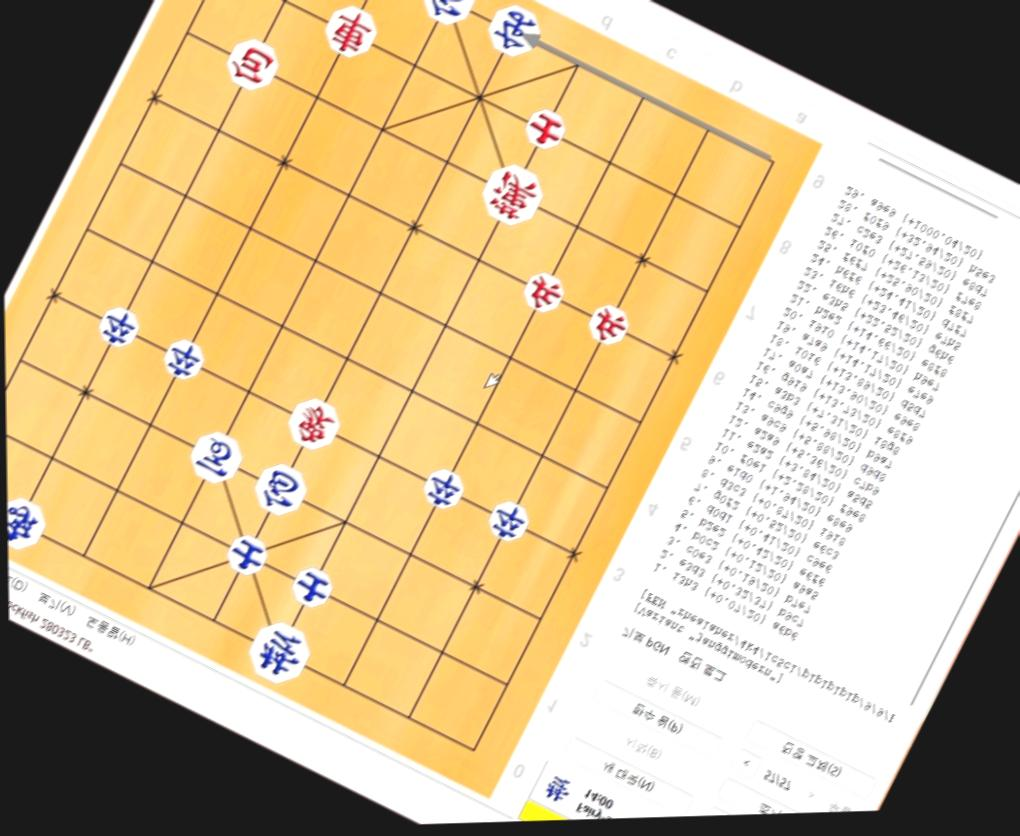cha_green: (480, 0, 546, 62)
cha_red: (319, 0, 385, 64)
jol_green: (482, 494, 534, 545), (158, 332, 209, 383), (92, 300, 143, 351), (420, 462, 470, 514)
jol_red: (516, 266, 568, 319), (583, 300, 634, 350)
ma_green: (183, 423, 249, 489)
po_green: (249, 457, 314, 522), (415, 0, 482, 29)
po_red: (219, 34, 285, 101)
sa_green: (222, 527, 275, 581), (287, 560, 339, 611)
sa_red: (520, 103, 570, 153)
sang_green: (7, 490, 52, 554)
sang_red: (281, 393, 346, 458)
wang_green: (240, 614, 317, 691)
wang_red: (473, 155, 551, 234)
